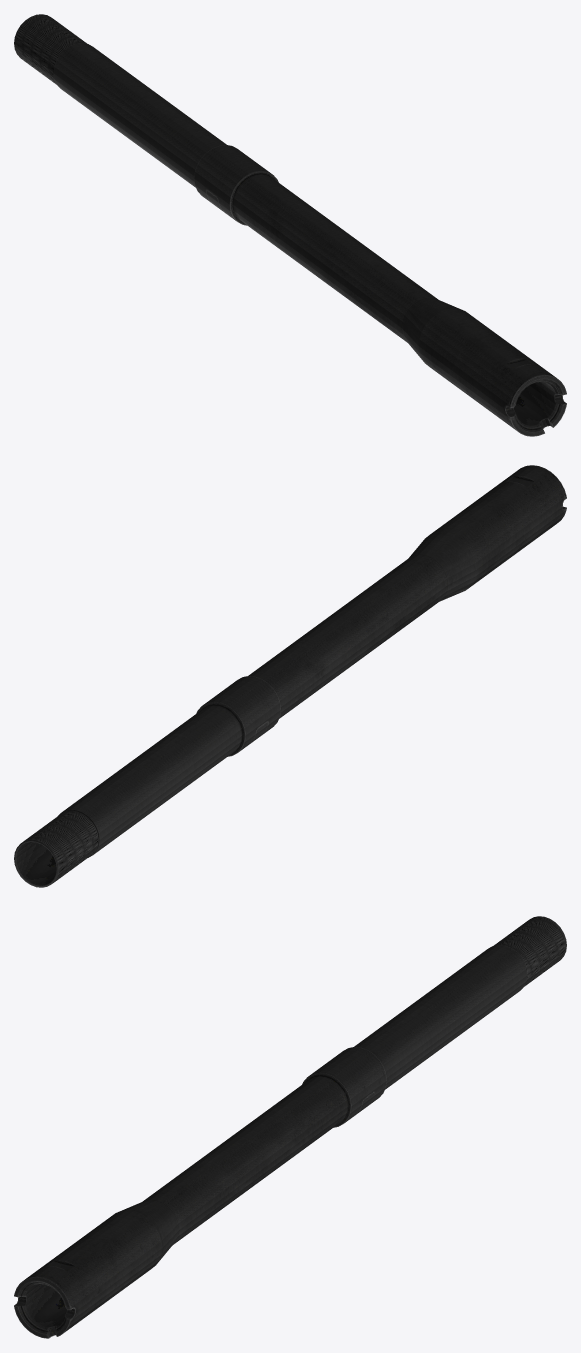
3 renders of one model, top to bottom at view 1: azimuth 30°, elevation 25°; view 2: azimuth 150°, elevation 25°; view 3: azimuth 330°, elevation 25°, orthographic.
Visible parts, largest first — view 1: TW_670fd0a8d8d4eae4790c8187_PZ_Import; view 2: TW_670fd0a8d8d4eae4790c8187_PZ_Import; view 3: TW_670fd0a8d8d4eae4790c8187_PZ_Import.
Part boxes in pixels (box(x1,y1,x2,y2)): TW_670fd0a8d8d4eae4790c8187_PZ_Import: box(14, 14, 566, 436); TW_670fd0a8d8d4eae4790c8187_PZ_Import: box(14, 465, 566, 887); TW_670fd0a8d8d4eae4790c8187_PZ_Import: box(14, 916, 566, 1338).
Size of the model in its own units: 0.016 by 0.2413 by 0.016.
1 material, 1 textured.
